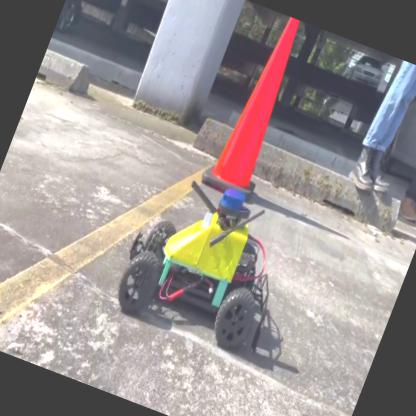cone: (199, 8, 317, 202)
mushr_car: (108, 160, 312, 362)
